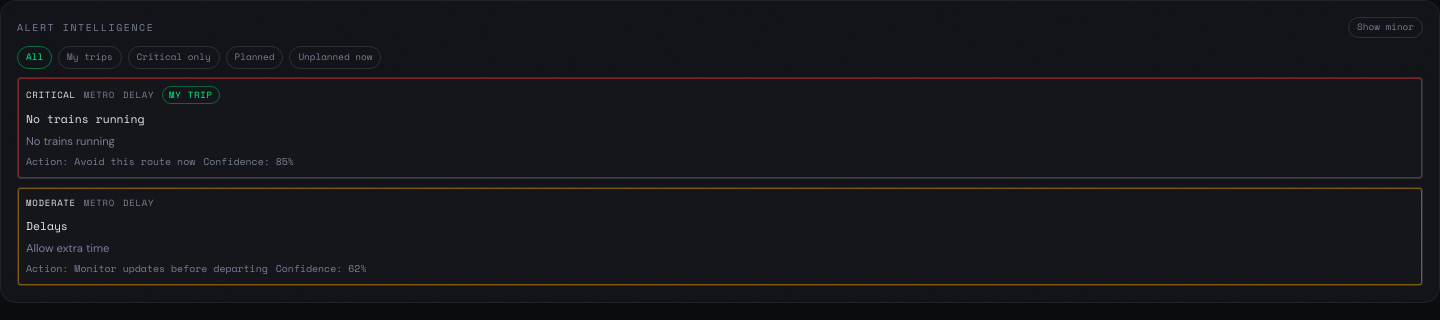
Test: SmartAlertFeed › shows my trip badge for matching route and supports critical filter
The image size is (1440, 320).
Expected: the text "MY TRIP" is shown, [162,86,220,104]
Click the button "Critical only" at {"x": 174, "y": 57}, box [128,46,220,69]
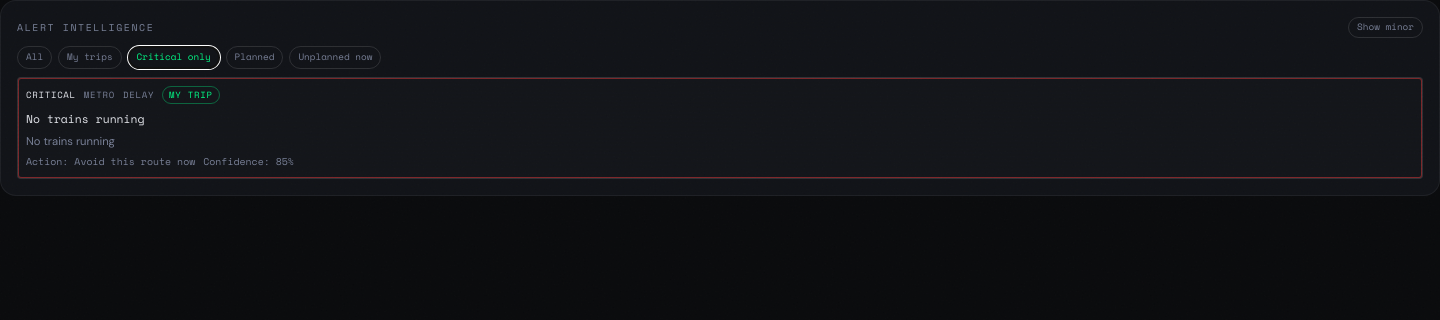
Expected: the 1st text "No trains running" is shown, [26,110,144,127]
Expected: the text "Delays" is gone
